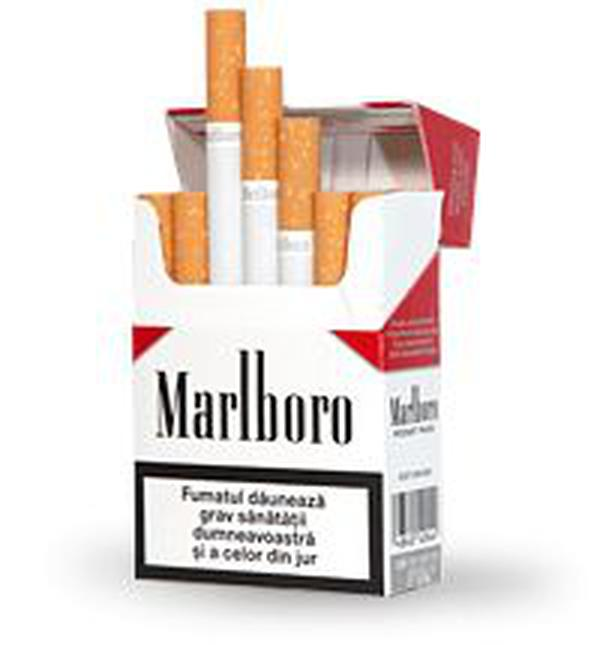marlboro_red: (132, 220, 388, 580)
